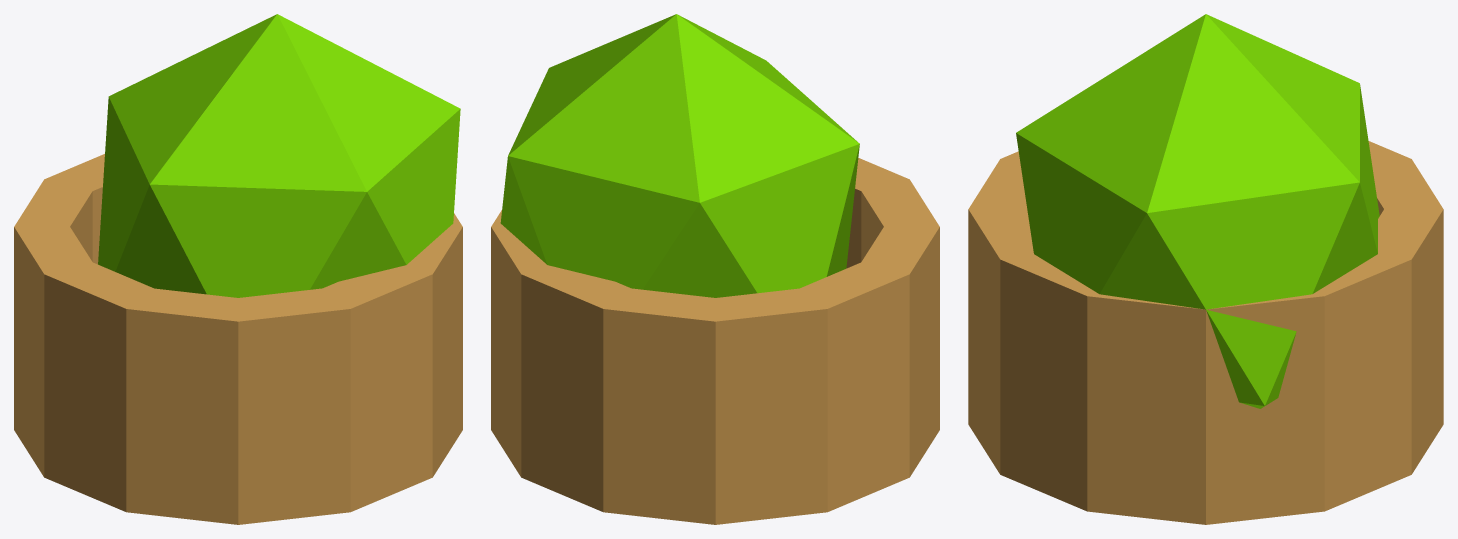
File: plant_9.glb
3 renders of one model, left to right at view 1: azimuth 30°, elevation 25°; view 2: azimuth 150°, elevation 25°; view 3: azimuth 270°, elevation 25°, orthographic. The views are drawn at different scales.
Parts seen in each view (by area): view 1: Mesh_Mesh_head_geo.001_lambert2SG.001; view 2: Mesh_Mesh_head_geo.001_lambert2SG.001; view 3: Mesh_Mesh_head_geo.001_lambert2SG.001.
Boxes of the visible parts, x1,y1,x2,y2 form: Mesh_Mesh_head_geo.001_lambert2SG.001: (14,14,462,524); Mesh_Mesh_head_geo.001_lambert2SG.001: (491,14,939,524); Mesh_Mesh_head_geo.001_lambert2SG.001: (968,14,1443,524).
Size of the model in its own units: 1 by 1 by 1.
